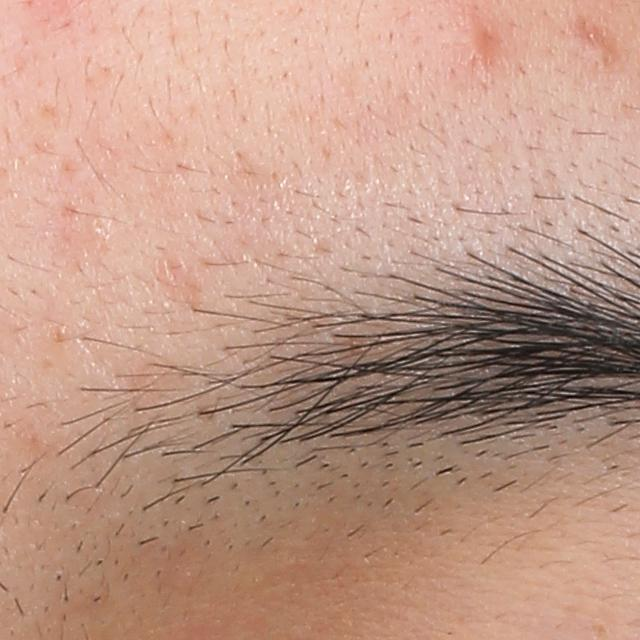comedo: (588, 44, 615, 67)
papule: (463, 11, 497, 70)
